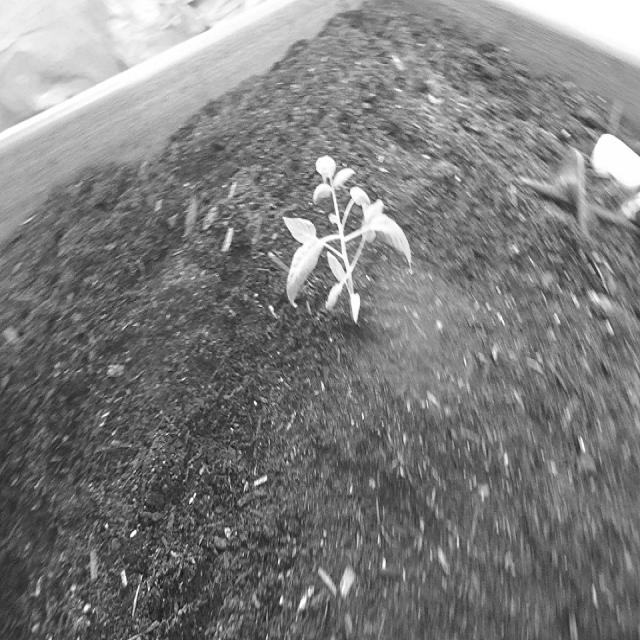Healthy: (279, 151, 415, 328)
